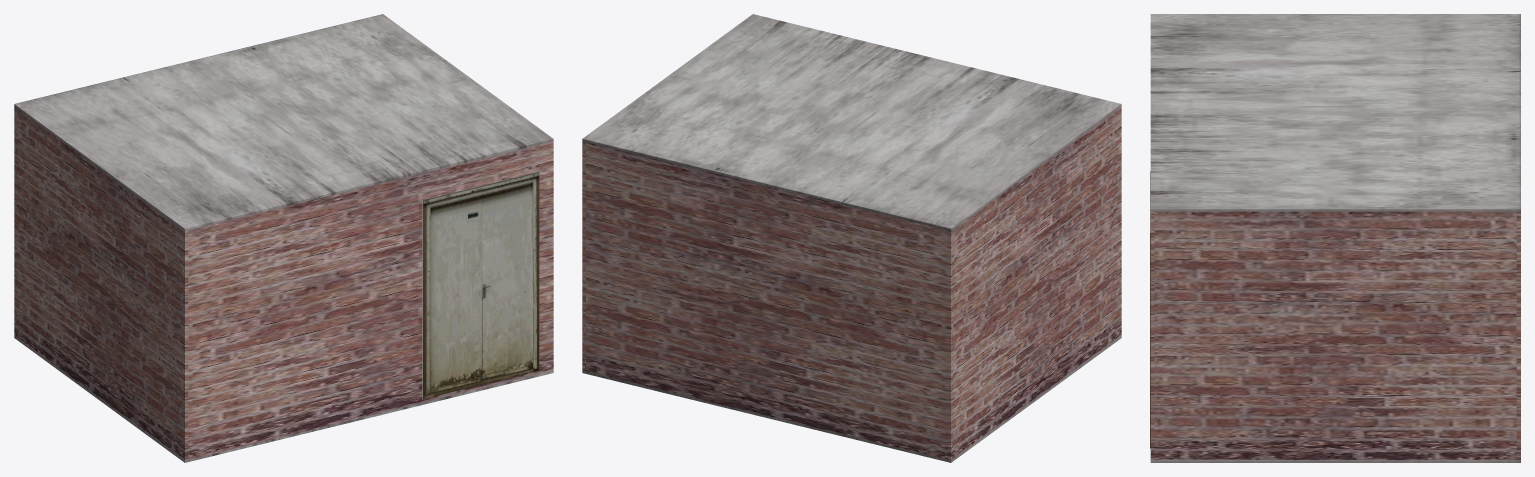
Rendered from ConcShack.glb.
3 renders of one model, left to right at view 1: azimuth 30°, elevation 25°; view 2: azimuth 150°, elevation 25°; view 3: azimuth 270°, elevation 25°, orthographic. The views are drawn at different scales.
Parts seen in each view (by area): view 1: Ceiling, WWall, NWall, Door, Ground; view 2: EWall, Ceiling, NWall, Ground, SWall; view 3: SWall, Ceiling, WWall, EWall, Ground.
Boxes of the visible parts, x1,y1,x2,y2 form: Ceiling: (14, 14, 553, 230); WWall: (188, 141, 553, 459); NWall: (14, 106, 188, 460); Door: (422, 172, 539, 399); Ground: (14, 336, 553, 462); EWall: (582, 141, 947, 459); Ceiling: (582, 14, 1121, 230); NWall: (947, 106, 1121, 460); Ground: (582, 336, 1121, 462); SWall: (582, 141, 585, 371); SWall: (1154, 211, 1516, 460); Ceiling: (1150, 14, 1520, 211); WWall: (1150, 211, 1154, 460); EWall: (1516, 211, 1520, 460); Ground: (1150, 460, 1520, 462).
Bounding box in the file's own units: 5.05 × 3.06 × 4.05.
Materials: 3 (3 with a texture image).
